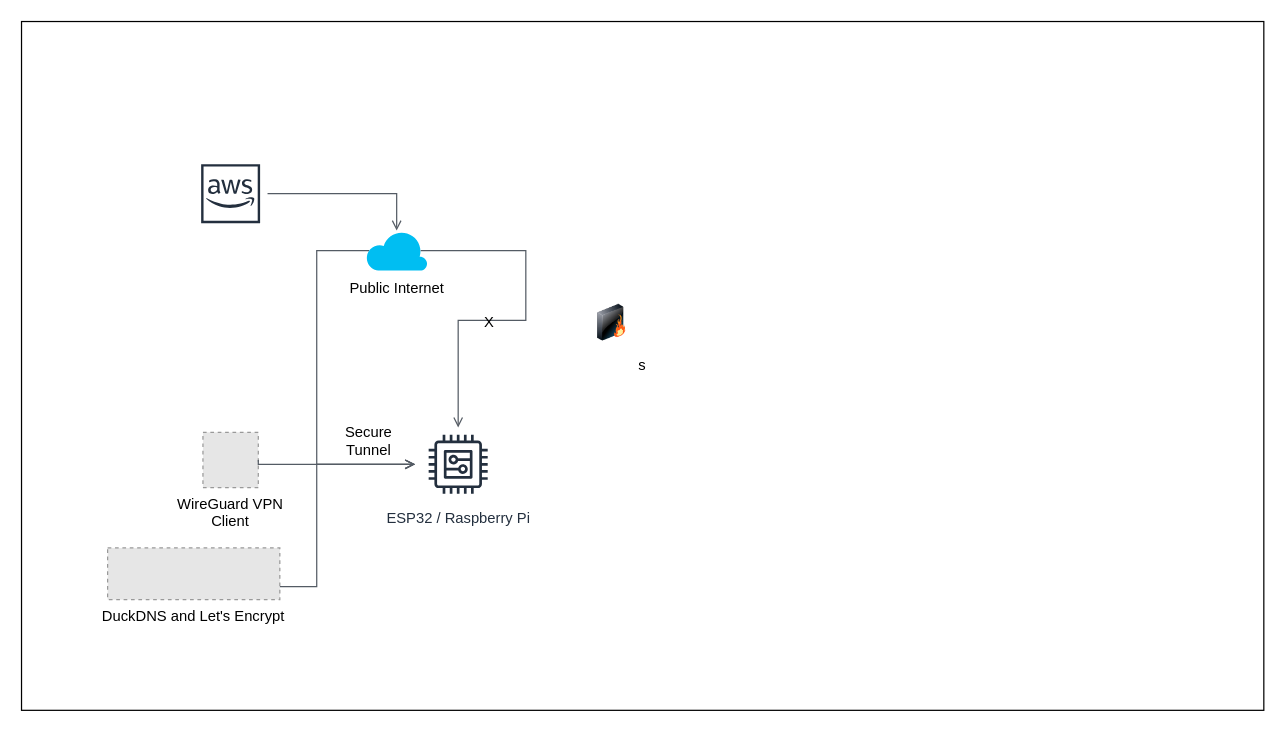
Some shapes in this 1285 by 732 pixel diagram are drawn without their labels. Grey dashed boxes stand in for pictures. The box of each missing label's shape, as (x1, y1, x2, y2) in pixels:
AWS Cloud: (192, 156, 268, 231)
Devices hidden behind firewall and router No static IP address: (587, 304, 636, 341)
